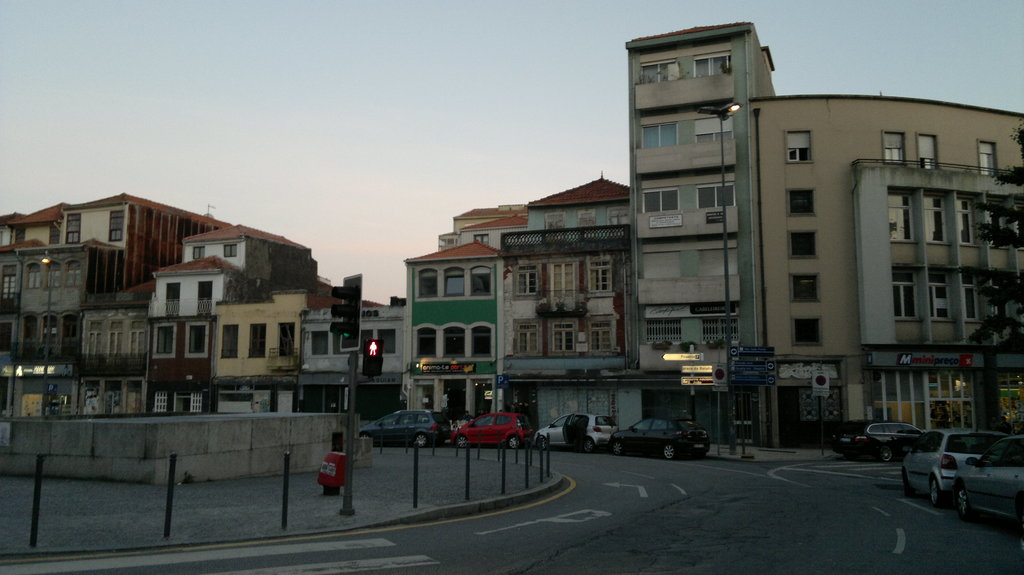cars: (955, 432, 1023, 523), (902, 421, 965, 507), (609, 412, 705, 457), (843, 418, 940, 459), (444, 404, 524, 441), (360, 411, 445, 444), (542, 412, 605, 443)
